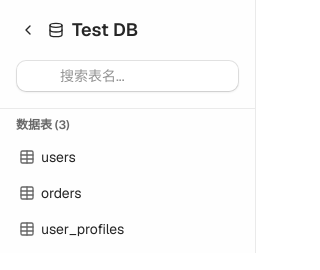
Scenario: TableSidebar › 输入搜索关键词应过滤表列表
This screenshot has width=320, height=270.
Expected: the button "users" is shown, x1=8 y1=141 x2=247 y2=173
Expected: the button "orders" is shown, x1=8 y1=177 x2=247 y2=209
Step 1. Type "user" into the search field with placeholder "搜索表名..." → [144, 76], box x1=49 y1=61 x2=238 y2=91
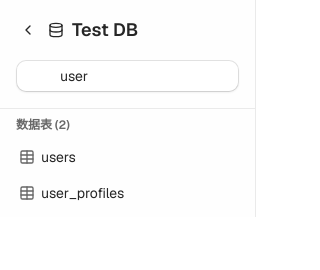
Expected: the button "users" is shown, x1=8 y1=141 x2=247 y2=173
Expected: the button "orders" is gone
